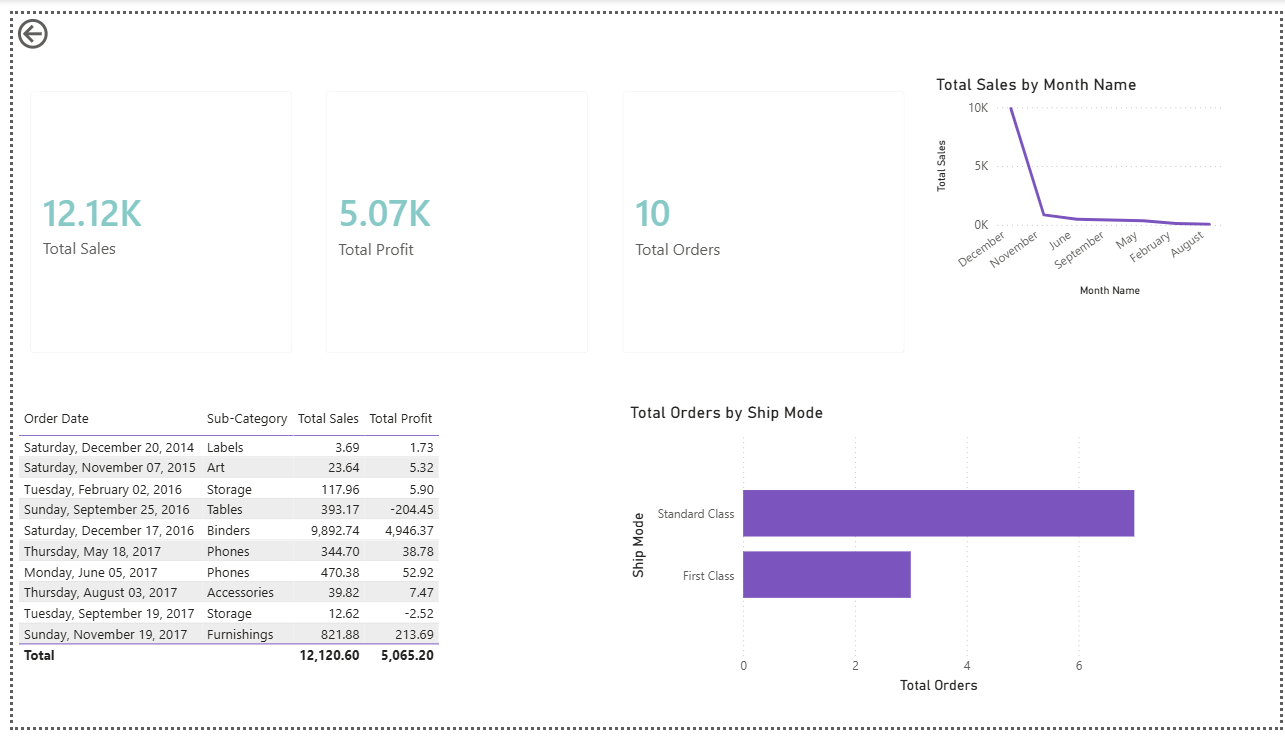

This screenshot's page, from the dashboard's own definition file:
{"tool":"powerbi","page":{"name":"Customer Detail","canvas":[1280,720],"ordinal":2},"visuals":[{"type":"actionButton","box":[0,0,100,40],"z":0},{"type":"cardVisual","fields":{"Data":["_Measures.Total Sales"]},"box":[0,60.6,299.2,299.2],"z":1000},{"type":"cardVisual","fields":{"Data":["_Measures.Total Profit"]},"box":[299.2,60.6,299.2,299.2],"z":2000},{"type":"cardVisual","fields":{"Data":["_Measures.Total Orders"]},"box":[598.4,60.6,319.4,299.2],"z":3000},{"type":"lineChart","fields":{"Category":["Date.Month Name"],"Y":["_Measures.Total Sales"]},"box":[928,61,299,229],"z":4000},{"type":"tableEx","fields":{"Values":["Orders.Order Date","Orders.Sub-Category","_Measures.Total Sales","_Measures.Total Profit"]},"box":[0,392.8,618.6,297.4],"z":5000},{"type":"clusteredBarChart","fields":{"Y":["_Measures.Total Orders"],"Category":["Orders.Ship Mode"]},"box":[618.6,392.8,523.1,297.4],"z":6000}]}

Visuals, with their boxes on the page's 1280x720 design canvas (x1, y1, x2, y2). These are canvas units, not pixel positions in the 1285x749 screenshot, which may show the page scaled, cropped or inside an application window:
actionButton: (0, 0, 100, 40)
cardVisual - _Measures.Total Sales: (0, 61, 299, 360)
cardVisual - _Measures.Total Profit: (299, 61, 598, 360)
cardVisual - _Measures.Total Orders: (598, 61, 918, 360)
lineChart - Date.Month Name x _Measures.Total Sales: (928, 61, 1227, 290)
tableEx - Orders.Order Date x Orders.Sub-Category: (0, 393, 619, 690)
clusteredBarChart - _Measures.Total Orders x Orders.Ship Mode: (619, 393, 1142, 690)
